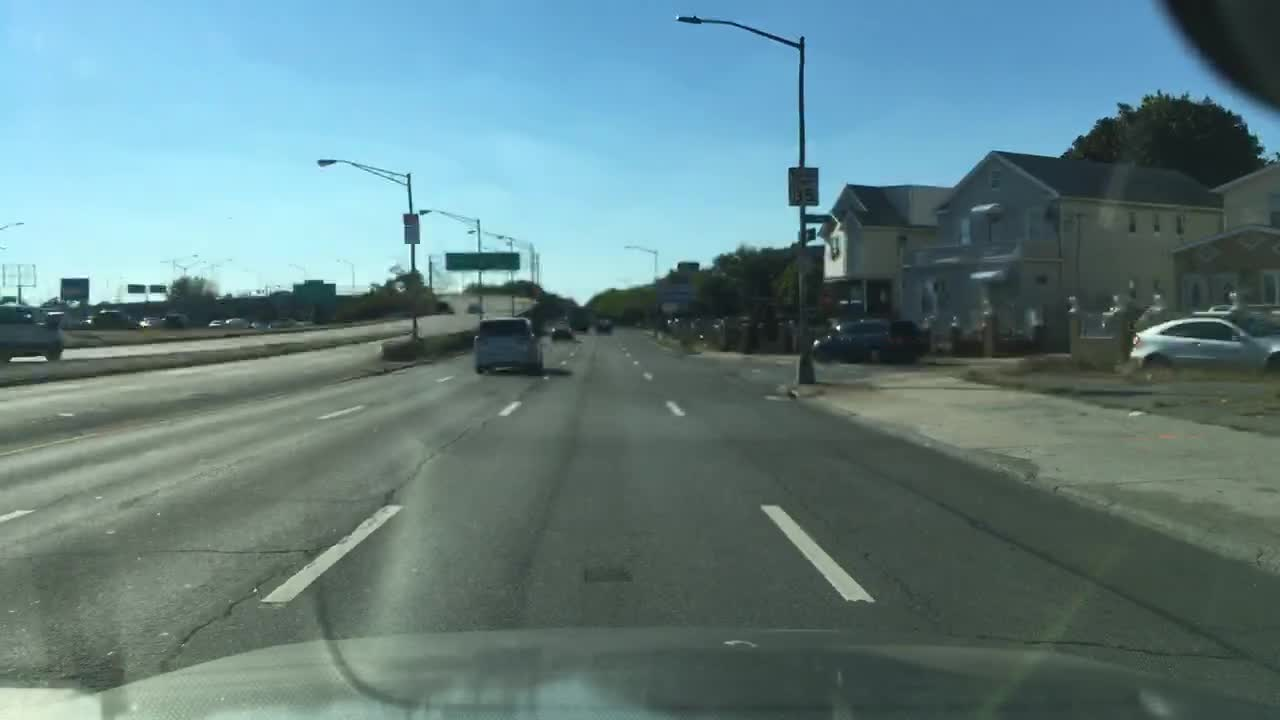car: (1127, 317, 1278, 379), (813, 315, 925, 371), (471, 313, 547, 379), (0, 304, 68, 361), (1188, 298, 1277, 335), (93, 308, 129, 327), (592, 316, 615, 334), (135, 314, 162, 329), (269, 319, 305, 329), (548, 326, 571, 340), (162, 313, 186, 326), (223, 316, 248, 328), (206, 316, 226, 328), (251, 316, 268, 329)
traffic sign: (446, 250, 519, 270), (787, 166, 816, 203), (61, 277, 86, 299), (678, 260, 700, 281), (800, 225, 819, 242), (401, 210, 420, 226), (404, 225, 420, 244), (804, 214, 833, 223), (125, 281, 146, 293), (146, 283, 168, 293)
truck: (566, 303, 591, 332)
